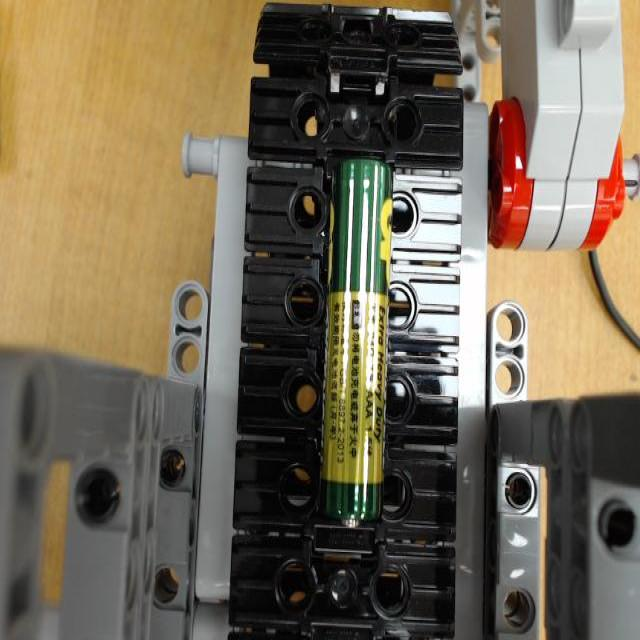AAA: (321, 157, 394, 530)
